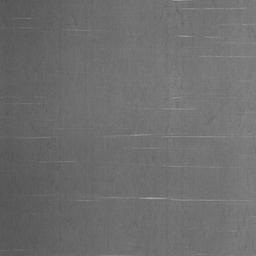Waist folding: (75, 106, 256, 203), (177, 6, 256, 59), (17, 135, 75, 164), (0, 16, 89, 33), (53, 249, 155, 256), (0, 101, 40, 106), (231, 252, 256, 256), (0, 248, 23, 252)
